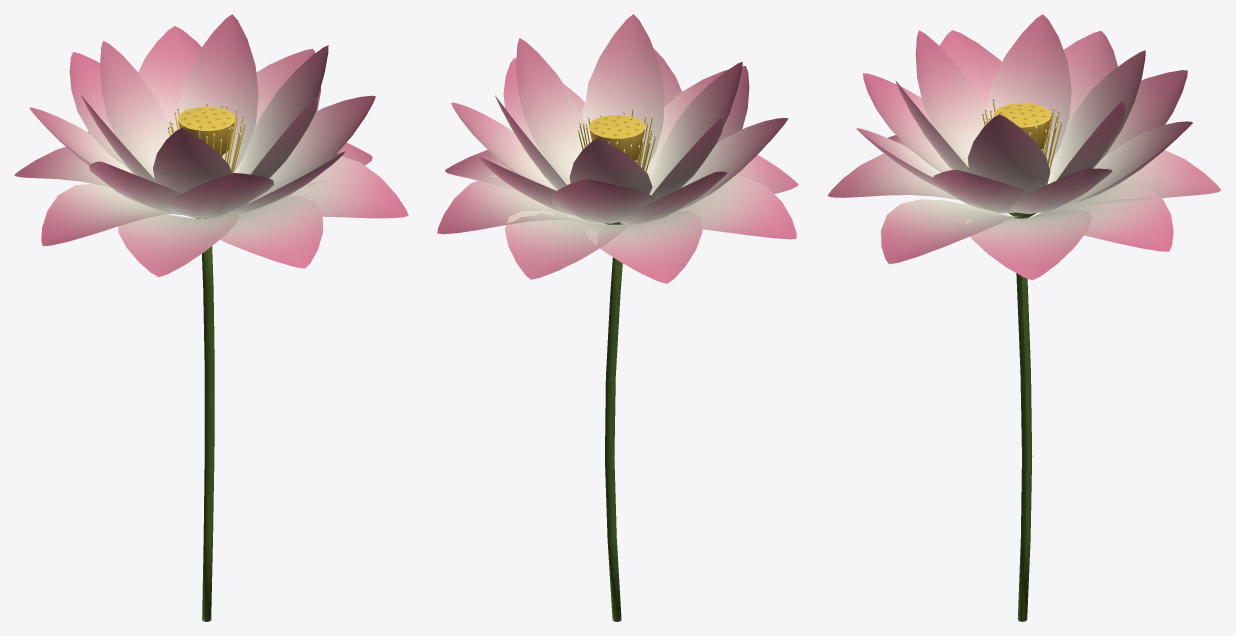
File: lotus_flower_lod0.glb
The picture shows the model from 3 angles, left to right: view 1: azimuth 30°, elevation 25°; view 2: azimuth 150°, elevation 25°; view 3: azimuth 270°, elevation 25°; orthographic projection. The views are drawn at different scales.
Visible parts, largest first — view 1: lotus_petals, lotus_stem, lotus_heart; view 2: lotus_petals, lotus_stem, lotus_heart; view 3: lotus_petals, lotus_stem, lotus_heart.
Boxes of the visible parts, <box> form: lotus_petals: <box>14,14,408,277</box>; lotus_stem: <box>196,218,214,621</box>; lotus_heart: <box>168,102,245,173</box>; lotus_petals: <box>437,14,798,283</box>; lotus_stem: <box>604,222,622,621</box>; lotus_heart: <box>578,107,655,172</box>; lotus_petals: <box>827,14,1221,280</box>; lotus_stem: <box>1009,212,1036,621</box>; lotus_heart: <box>982,98,1062,169</box>.
Bounding box in the file's own units: 0.7707 × 1.2 × 0.7625.
3 materials, 3 textured.
